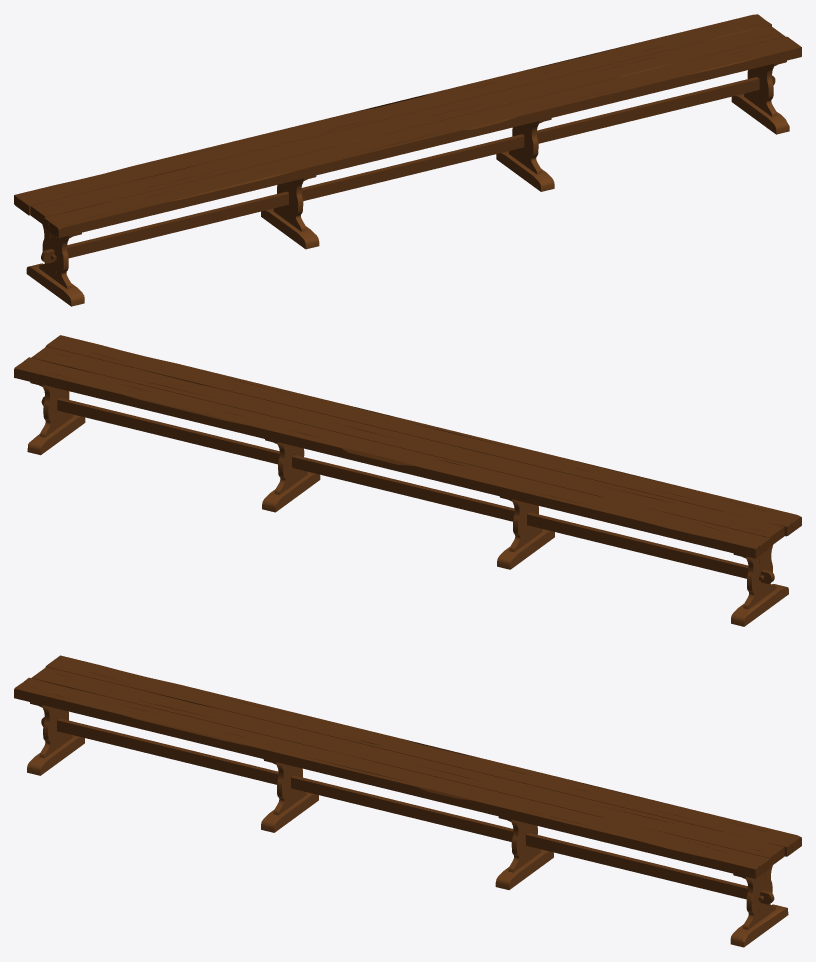
File: SM_MainTable.fbx
3 views of the same model, one above another, from view 1: azimuth 30°, elevation 25°; view 2: azimuth 150°, elevation 25°; view 3: azimuth 330°, elevation 25° (orthographic).
Visible parts, largest first — view 1: SM_MainTable; view 2: SM_MainTable; view 3: SM_MainTable.
Part boxes in pixels (bbox=[...]): SM_MainTable: bbox=[14, 14, 801, 306]; SM_MainTable: bbox=[14, 335, 801, 626]; SM_MainTable: bbox=[14, 655, 801, 947].
Size of the model in its own units: 8.85 by 0.9253 by 0.9396.
